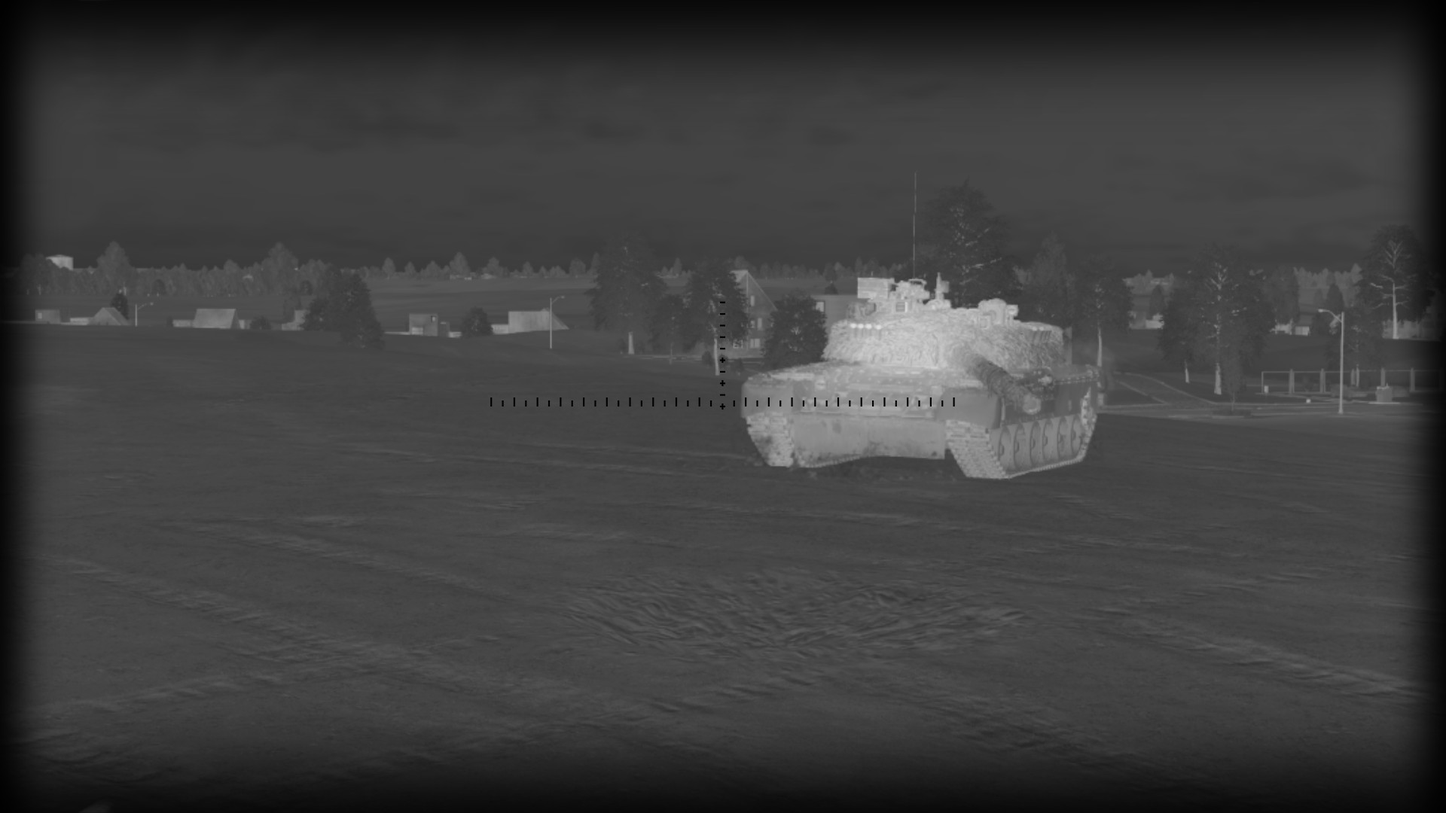t-80u: (739, 273, 1105, 479)
